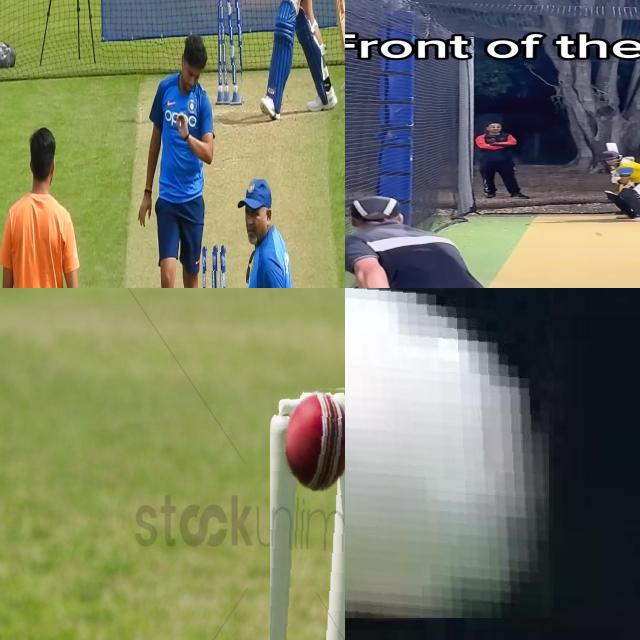Cricket ball: (345, 288, 548, 618), (288, 386, 345, 493), (594, 229, 606, 237)
Stumps: (270, 383, 345, 640), (217, 0, 241, 108), (202, 241, 233, 288)
